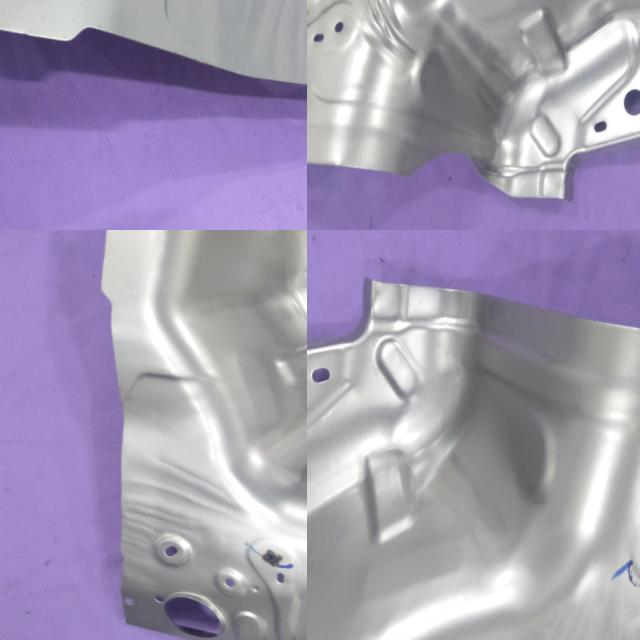Defect: (372, 133, 538, 215)
Healthy: (307, 259, 640, 640), (63, 230, 307, 640), (0, 0, 307, 116)
